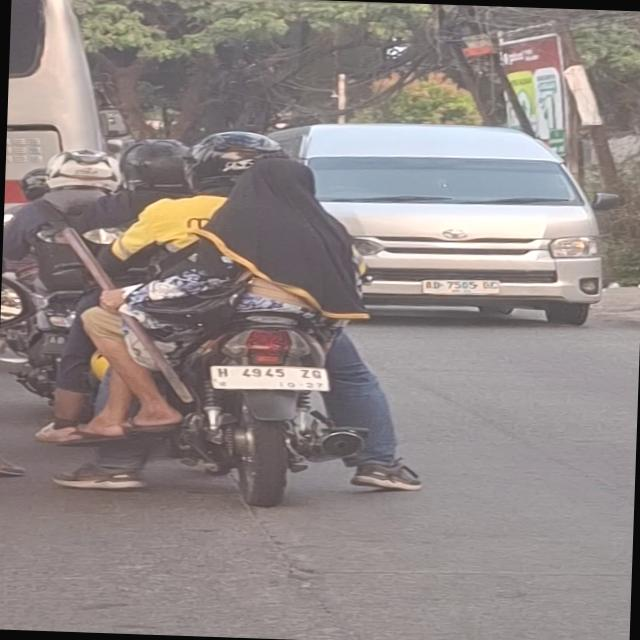WithHelmet: (47, 124, 435, 502), (0, 147, 140, 315), (102, 137, 198, 234)
WithoutHelmet: (160, 154, 382, 328)
